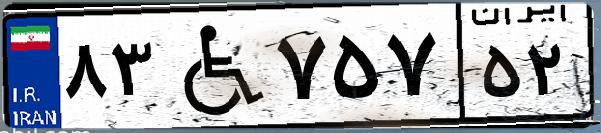2: (525, 38, 570, 115)
3: (110, 28, 158, 98)
5: (330, 28, 385, 110), (475, 38, 525, 113)
7: (270, 28, 330, 110), (385, 28, 445, 110)
8: (57, 26, 110, 100)
ژ (معلولین و جانبازان): (158, 12, 270, 120)
